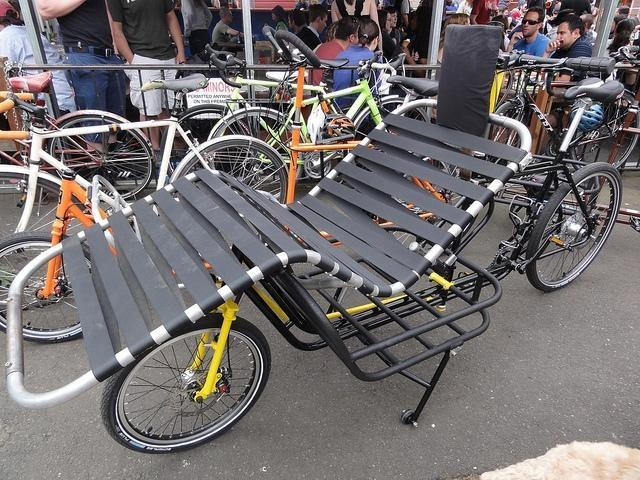bicycle: (0, 78, 289, 236), (509, 74, 624, 298), (184, 44, 346, 180), (113, 310, 271, 449), (1, 175, 90, 343), (49, 111, 152, 196), (304, 54, 396, 126), (276, 29, 330, 102), (6, 70, 53, 100)
